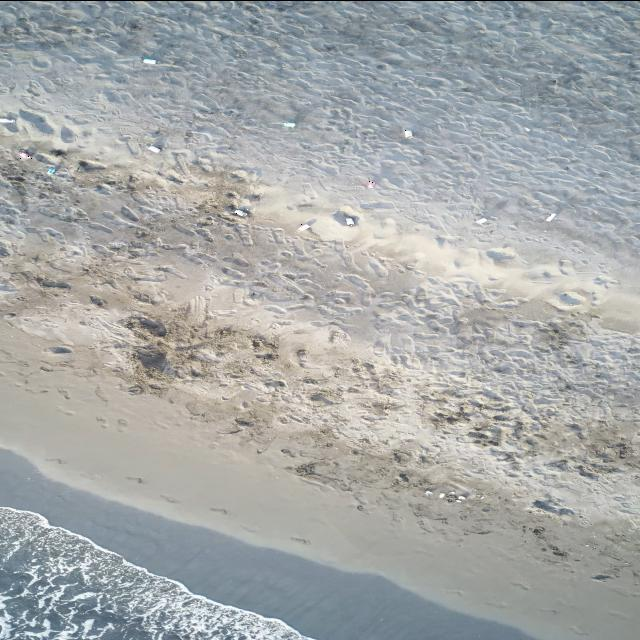Garbage: (332, 209, 357, 226), (233, 208, 247, 216), (143, 57, 156, 64), (344, 216, 353, 226), (281, 121, 296, 127), (20, 150, 31, 158), (475, 216, 487, 223), (298, 223, 310, 230), (148, 144, 160, 151), (0, 118, 15, 123), (546, 212, 555, 220), (404, 128, 412, 136), (367, 179, 375, 187), (48, 166, 55, 173), (424, 489, 432, 495), (447, 489, 455, 495), (457, 495, 464, 500), (439, 492, 444, 497), (455, 497, 460, 502), (524, 127, 529, 131), (480, 495, 484, 499)
